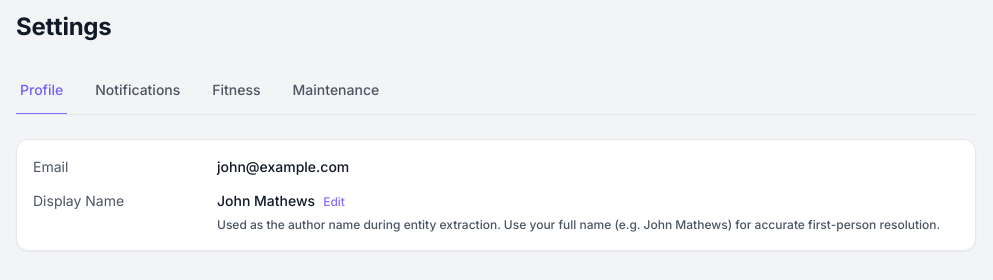
Test case: SettingsView › shows error when saving name fails
Click the button with test id "display-name-edit-btn": x=334, y=202 [323, 193, 345, 211]
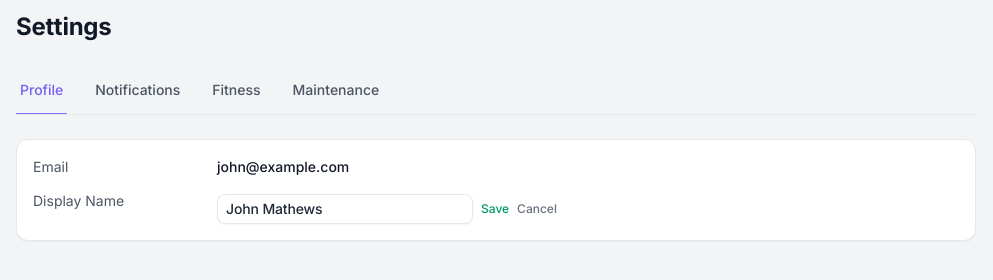
Replace the text in the field with test id "display-name-input" with "New Name": x=345, y=209 [217, 194, 473, 224]
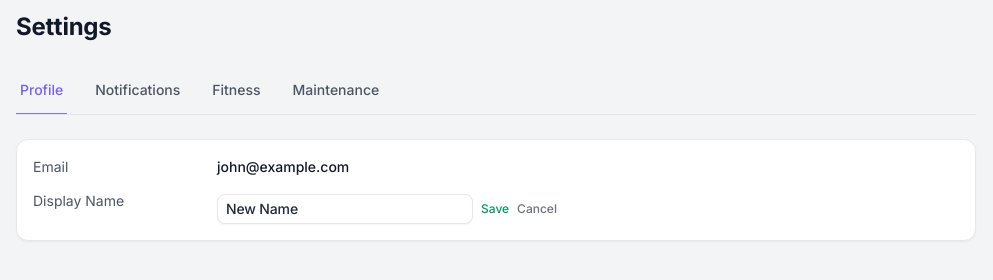
Click the button with test id "display-name-save-btn": x=495, y=209 [481, 200, 509, 218]
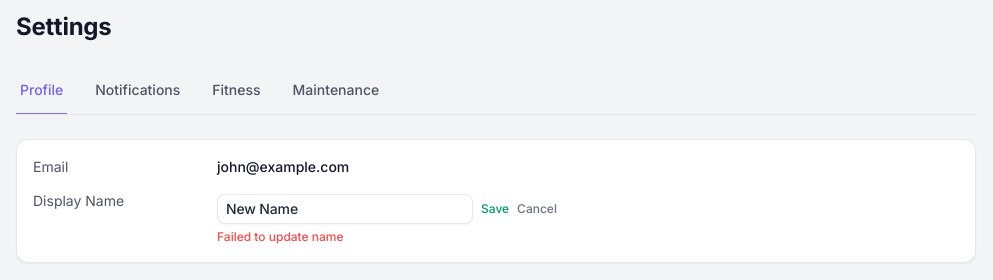
Expected: the text with test id "display-name-error" reads "Failed to update name", [217, 229, 344, 244]
